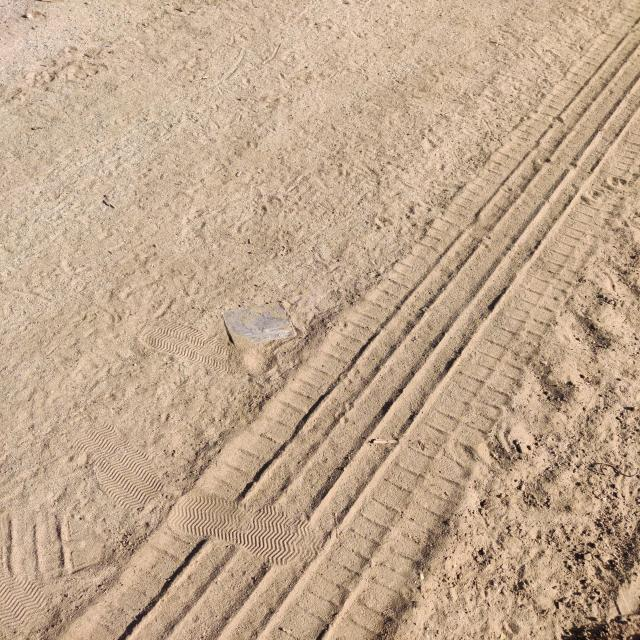litter: (223, 302, 297, 347)
